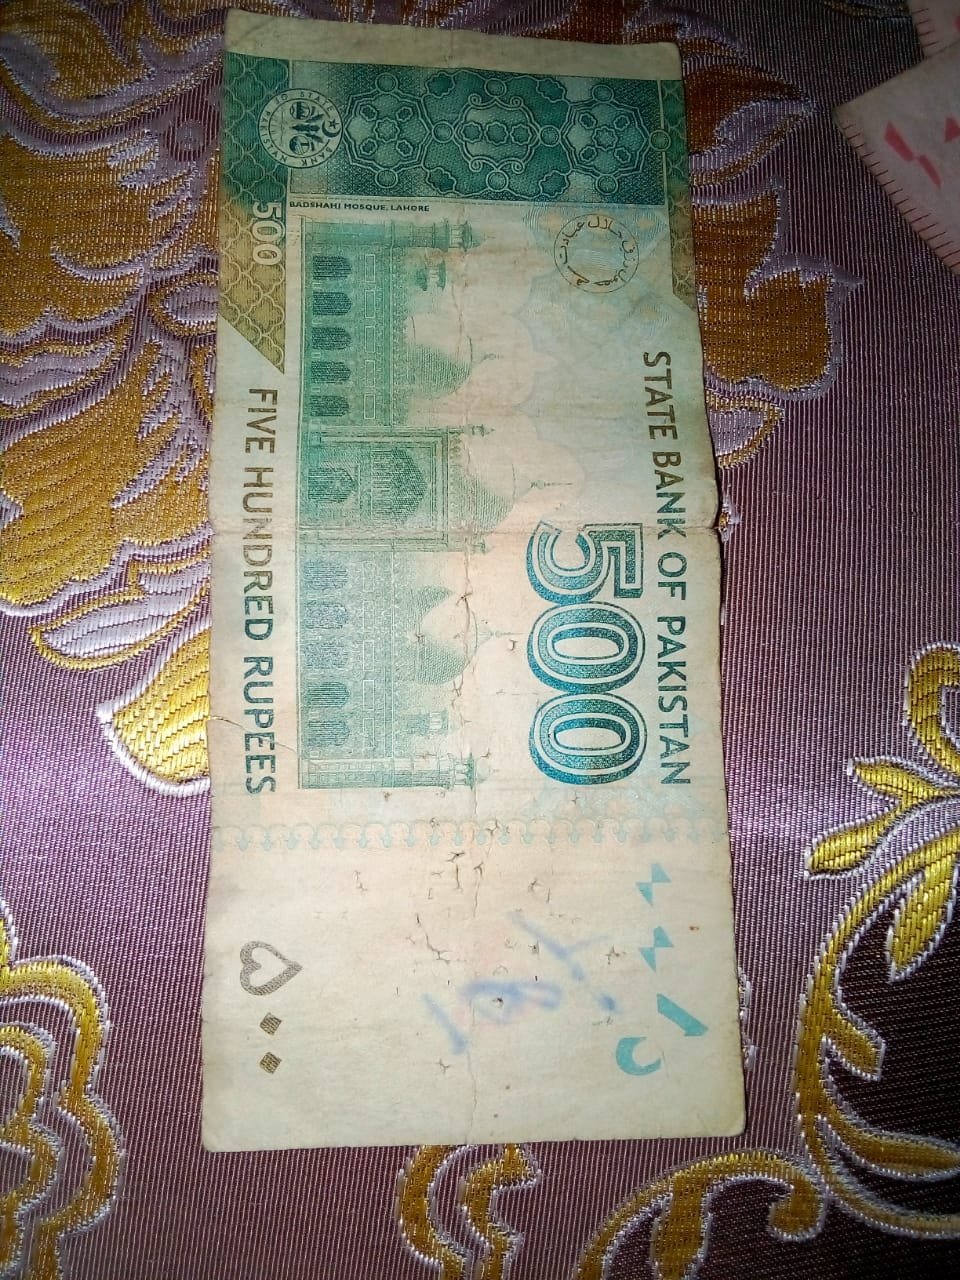500 rupee: (189, 27, 769, 1174)
